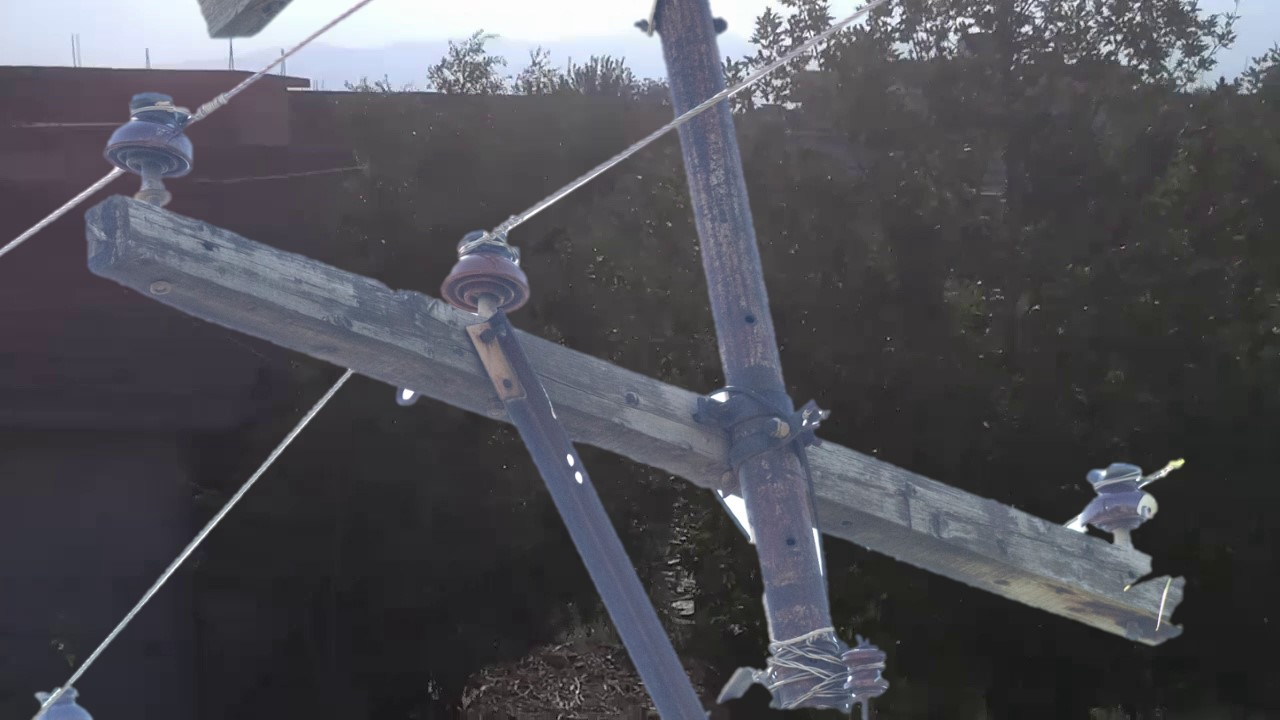defect_pin: (1077, 448, 1165, 538)
insulator_pin: (98, 83, 203, 188), (436, 222, 531, 321)
